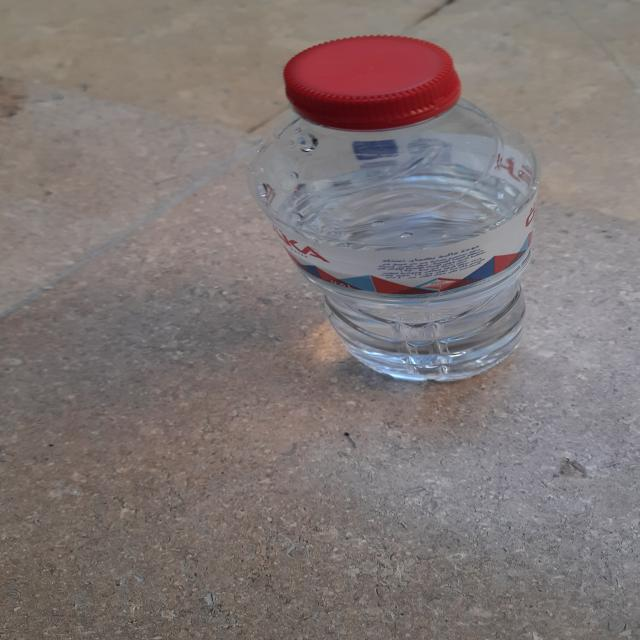plastic: (176, 1, 626, 446)
